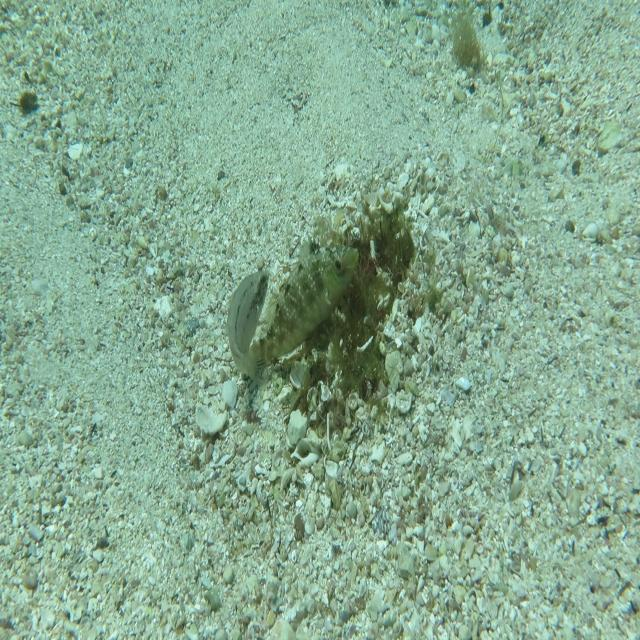FAN: (242, 229, 360, 381)
core_nest: (349, 222, 397, 278)
female: (224, 270, 270, 388)
nest: (272, 161, 432, 428)
